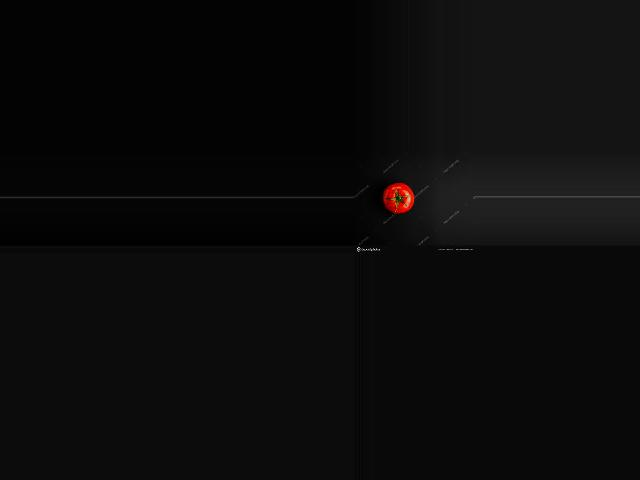tomato: (383, 182, 415, 214)
